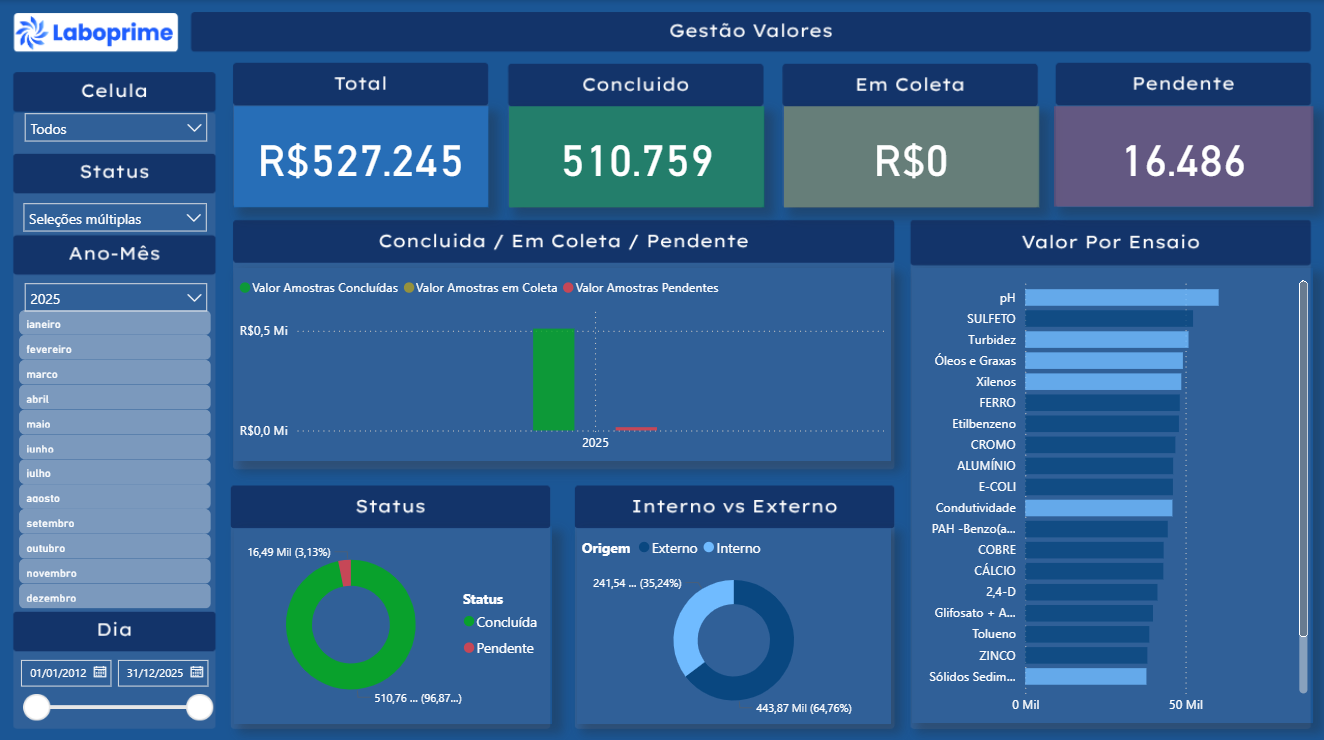

What the dashboard file says about the page in this screenshot:
{"tool":"powerbi","page":{"name":"Gestão Valores","canvas":[1280,720],"ordinal":3},"visuals":[{"type":"card","fields":{"Values":["_Medidas.Valor Amostras Concluídas (Funil)"]},"box":[491.7,102.8,246.7,97.2],"z":0},{"type":"card","fields":{"Values":["_Medidas.Valor Amostras Pendentes (Funil)"]},"box":[1017.6,102.9,250,97.1],"z":1000},{"type":"card","fields":{"Values":["_Medidas.Valor Amostras em Coleta (Funil)"]},"box":[757.2,102.8,246.1,97.2],"z":2000},{"type":"card","fields":{"Values":["_Medidas.Valor Total Amostras Recebidas (Funil)"]},"box":[226.7,102.8,245.6,97.2],"z":3000},{"type":"clusteredColumnChart","fields":{"Category":["dCalendario.Ano","dCalendario.Mes"],"Y":["_Medidas.Valor Amostras Concluídas","_Medidas.Valor Amostras em Coleta","_Medidas.Valor Amostras Pendentes"]},"box":[226.4,258.3,634.7,187.5],"z":4000},{"type":"donutChart","fields":{"Category":["vw_bi_tecnico_operacional.Status Funil da Amostra"],"Y":["_Medidas.Valor Total (por Amostra)"]},"box":[226.4,508.3,306.9,190.3],"z":5000},{"type":"clusteredBarChart","fields":{"Category":["vw_bi_tecnico_operacional.nome_ensaio"],"Y":["_Medidas.Valor Total (por Amostra)"]},"box":[880.6,258.3,387.5,440.3],"z":6000},{"type":"donutChart","fields":{"Y":["_Medidas.Valor Total (por Amostra)"],"Category":["vw_bi_tecnico_operacional.origem_execucao"]},"box":[557.4,507.9,304,190.6],"z":7000},{"type":"slicer","fields":{"Values":["vw_bi_tecnico_operacional.celula_realizada_nome"]},"box":[13.9,99,196.6,44.6],"z":8000},{"type":"slicer","fields":{"Values":["vw_bi_tecnico_operacional.status_amostra_macro"]},"box":[13.2,185.3,197.1,44.1],"z":9000},{"type":"slicer","fields":{"Values":["dCalendario.Ano"]},"box":[13.9,263.5,196.6,44.6],"z":10000},{"type":"slicer","fields":{"Values":["dCalendario.Date"]},"box":[13.7,632.1,196.8,71.6],"z":12000},{"type":"advancedSlicerVisual","fields":{"Values":["dCalendario.Mes"]},"box":[14.5,294.4,195,300],"z":12001}]}

Visuals, with their boxes in screenshot pixels (x1, y1, x2, y2), scaled from the page's 1280x720 canvas onto the 1324x740 screenshot:
card - _Medidas.Valor Amostras Concluídas (Funil): locate(509, 106, 764, 206)
card - _Medidas.Valor Amostras Pendentes (Funil): locate(1053, 106, 1311, 206)
card - _Medidas.Valor Amostras em Coleta (Funil): locate(783, 106, 1038, 206)
card - _Medidas.Valor Total Amostras Recebidas (Funil): locate(234, 106, 489, 206)
clusteredColumnChart - dCalendario.Ano x dCalendario.Mes: locate(234, 265, 891, 458)
donutChart - vw_bi_tecnico_operacional.Status Funil da Amostra x _Medidas.Valor Total (por Amostra): locate(234, 522, 552, 718)
clusteredBarChart - vw_bi_tecnico_operacional.nome_ensaio x _Medidas.Valor Total (por Amostra): locate(911, 265, 1312, 718)
donutChart - _Medidas.Valor Total (por Amostra) x vw_bi_tecnico_operacional.origem_execucao: locate(577, 522, 891, 718)
slicer - vw_bi_tecnico_operacional.celula_realizada_nome: locate(14, 102, 218, 148)
slicer - vw_bi_tecnico_operacional.status_amostra_macro: locate(14, 190, 218, 236)
slicer - dCalendario.Ano: locate(14, 271, 218, 317)
slicer - dCalendario.Date: locate(14, 650, 218, 723)
advancedSlicerVisual - dCalendario.Mes: locate(15, 303, 217, 611)
